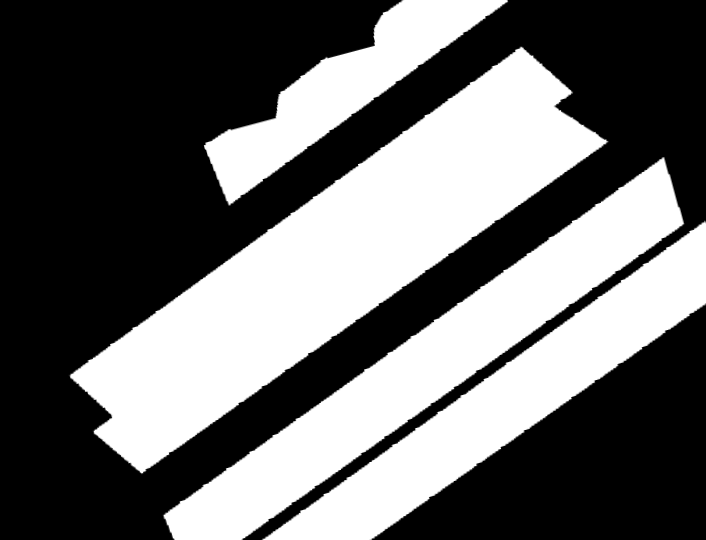parkingspot: (70, 47, 608, 473), (163, 157, 684, 540), (262, 221, 706, 540), (204, 0, 508, 205)
